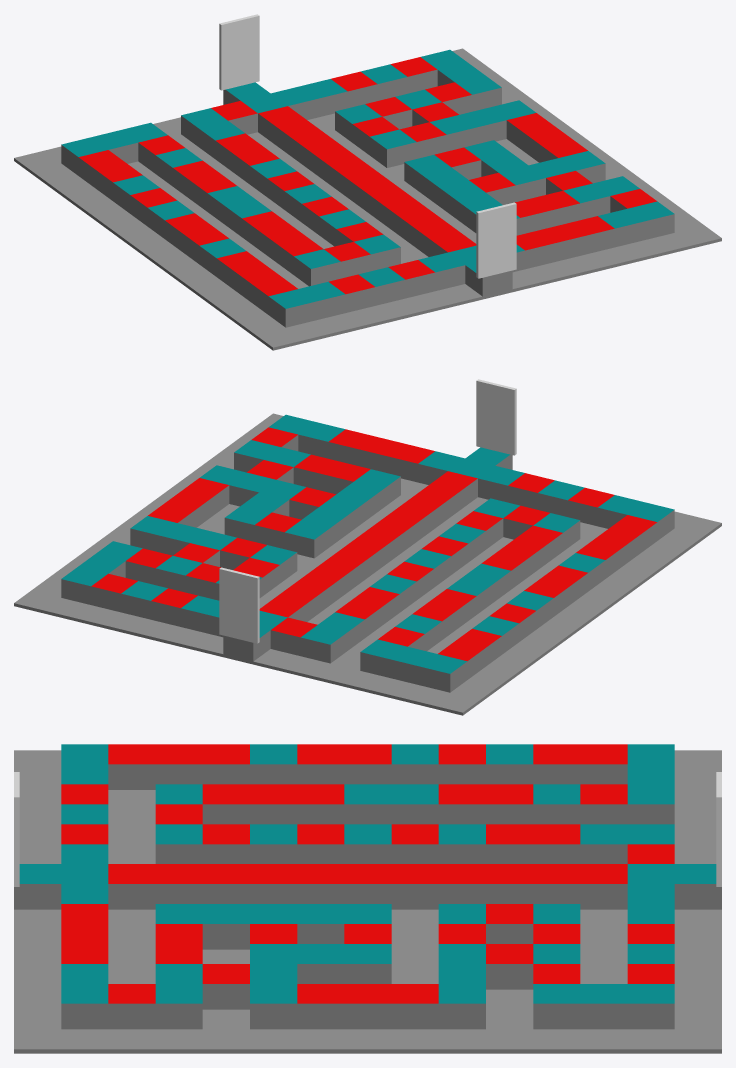
Rendered from KiraSharkDodgePuzzle.FBX.
3 renders of one model, top to bottom at view 1: azimuth 30°, elevation 25°; view 2: azimuth 150°, elevation 25°; view 3: azimuth 270°, elevation 25°, orthographic. The views are drawn at different scales.
Parts seen in each view (by area): view 1: KiraSharkDodgePuzzle, ExitDoor, EntranceDoor; view 2: KiraSharkDodgePuzzle, EntranceDoor, ExitDoor; view 3: KiraSharkDodgePuzzle, ExitDoor, EntranceDoor.
Part boxes in pixels (<box>): KiraSharkDodgePuzzle: <box>14,48,721,350</box>; ExitDoor: <box>476,202,516,278</box>; EntranceDoor: <box>219,14,259,90</box>; KiraSharkDodgePuzzle: <box>14,413,721,715</box>; EntranceDoor: <box>219,567,259,643</box>; ExitDoor: <box>476,379,516,455</box>; KiraSharkDodgePuzzle: <box>14,744,721,1053</box>; ExitDoor: <box>14,772,19,886</box>; EntranceDoor: <box>716,772,721,886</box>.
Size of the model in its own units: 984 by 183 by 984.
